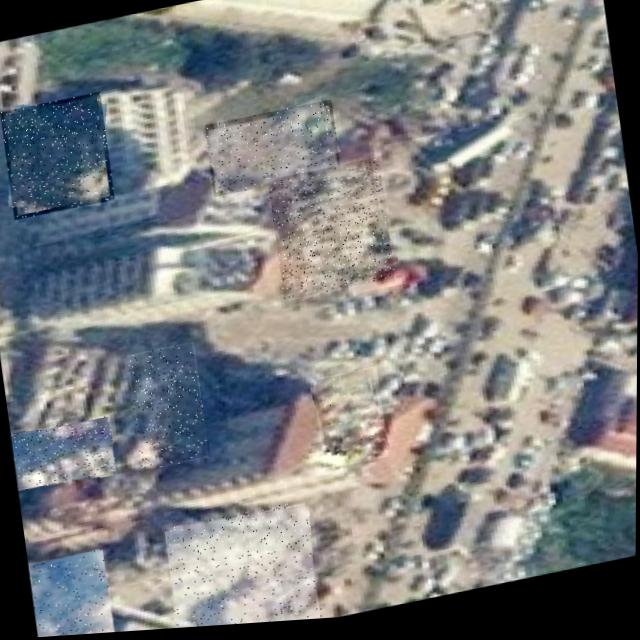Rubble: (162, 503, 324, 631), (267, 162, 395, 305), (0, 92, 114, 222), (203, 104, 341, 201), (125, 344, 209, 474), (27, 549, 120, 638), (10, 416, 117, 492), (311, 371, 389, 475)
